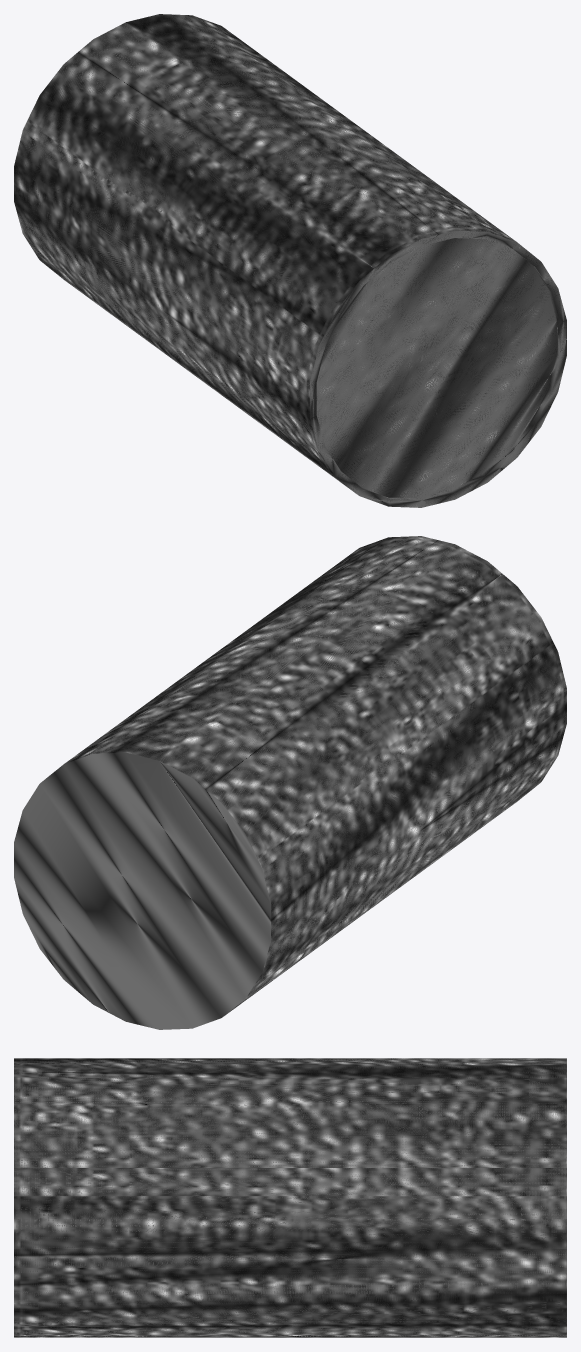
The model's file is model_align.obj.
The picture shows the model from 3 angles, top to bottom: view 1: azimuth 30°, elevation 25°; view 2: azimuth 150°, elevation 25°; view 3: azimuth 270°, elevation 25°; orthographic projection. The views are drawn at different scales.
Size of the model in its own units: 0.0719 by 0.0719 by 0.1433.
